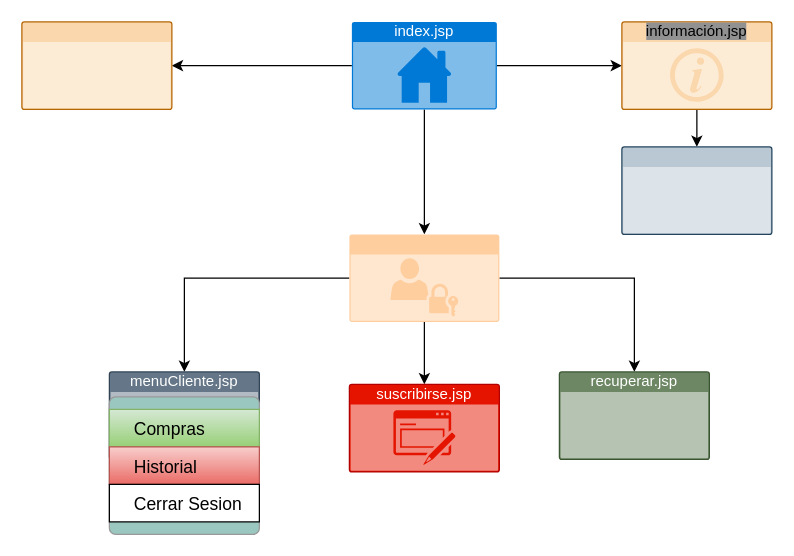
The diagram is 794 pixels wide and 556 high, and some of its shapes have lost their labels. Each missing label, with the box of its shape:
catalogo.jsp: (21, 21, 172, 109)
login.jsp: (349, 234, 499, 321)
www.github.com: (621, 146, 772, 234)
